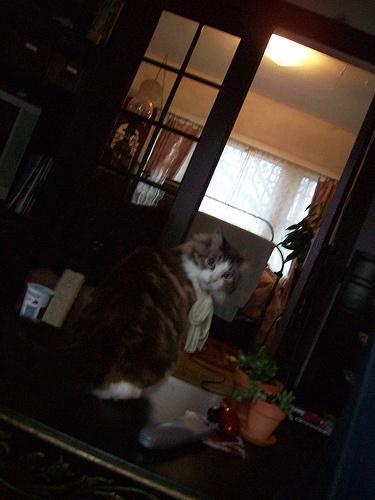cat: (80, 230, 248, 401)
pottedplant: (234, 383, 297, 447), (234, 346, 284, 407)
